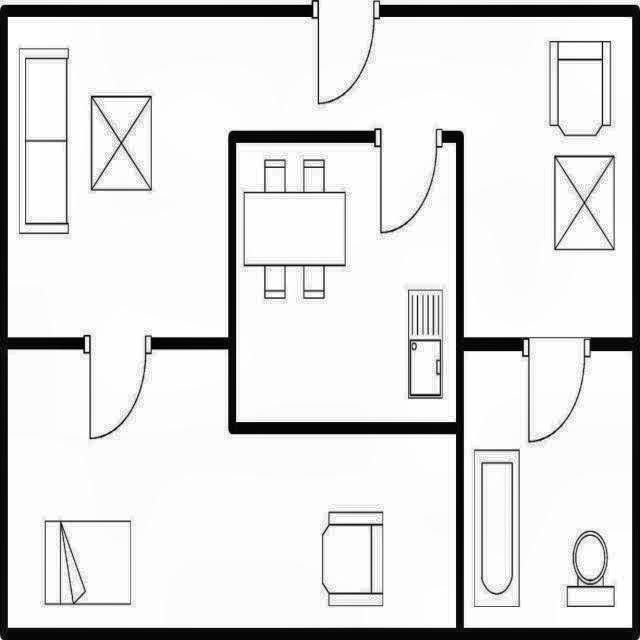room: (8, 17, 632, 337), (8, 349, 456, 628), (236, 143, 456, 422), (464, 351, 632, 628)
